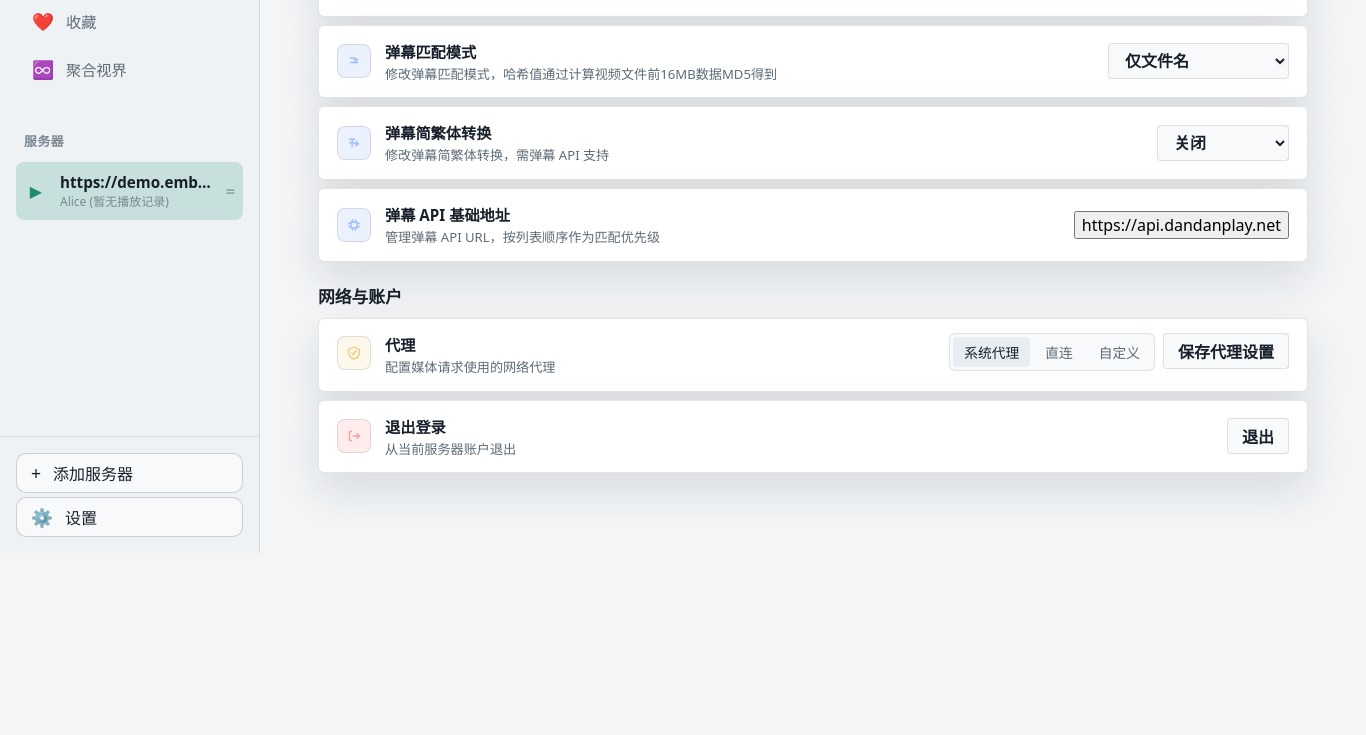
Test case: App › rejects invalid custom proxy settings before persistence at the route layer
(page scrolled)
Step 1. Click the radio button with aria-label "Custom proxy" → (1119, 352), box [1099, 343, 1140, 362]
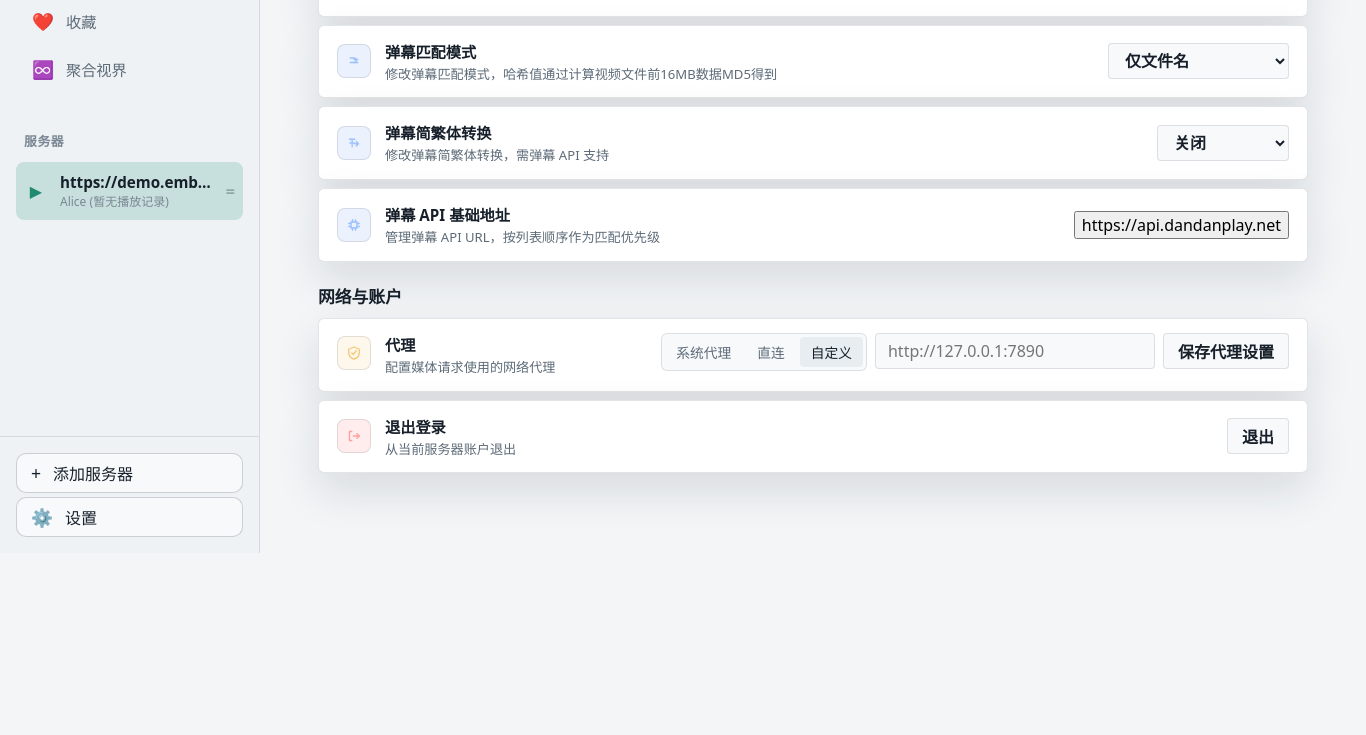
Step 2. Type "127.0.0.1:7890" into the field named "Custom proxy URL" → (1015, 351), box [875, 333, 1155, 369]
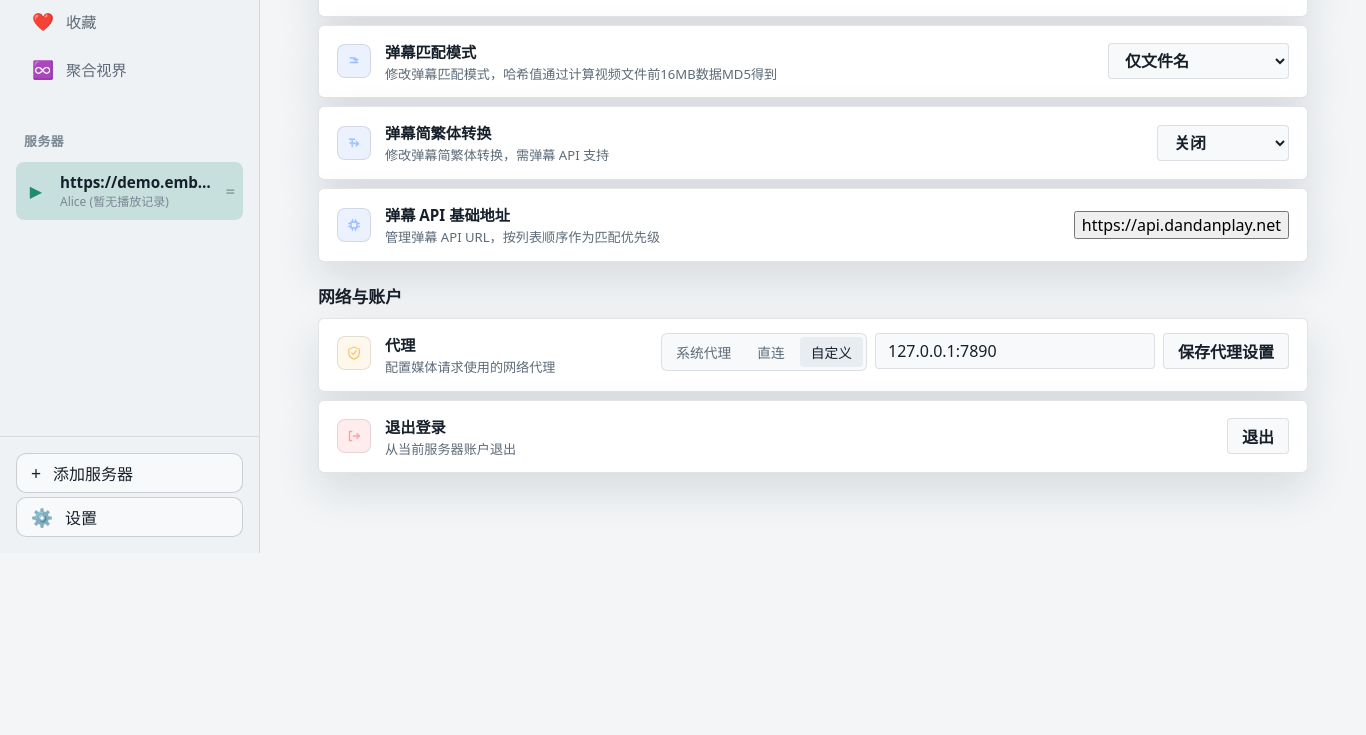
Step 3. Click the button with aria-label "Save proxy settings" → (1226, 351), box [1163, 333, 1289, 369]
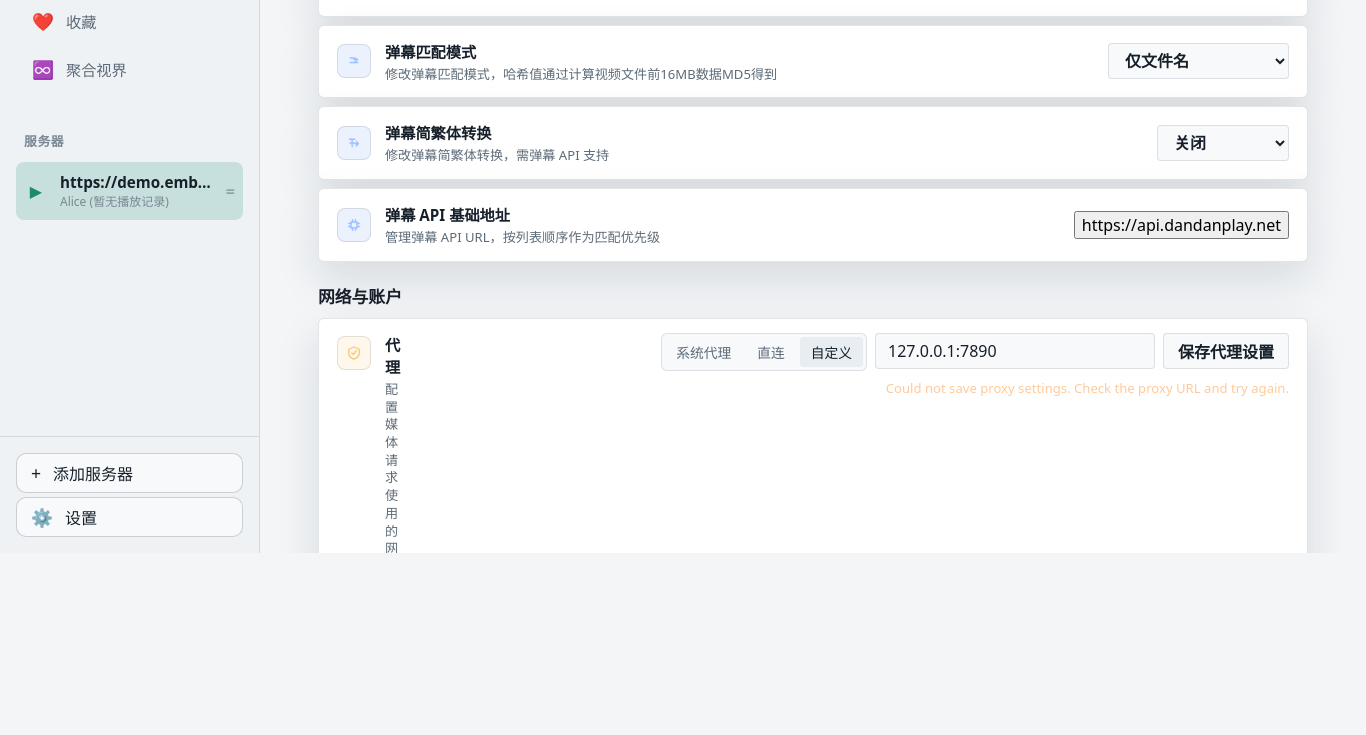
expect the message reads "Could not save proxy settings. Check the proxy URL and try again.": met, box [886, 379, 1289, 397]
